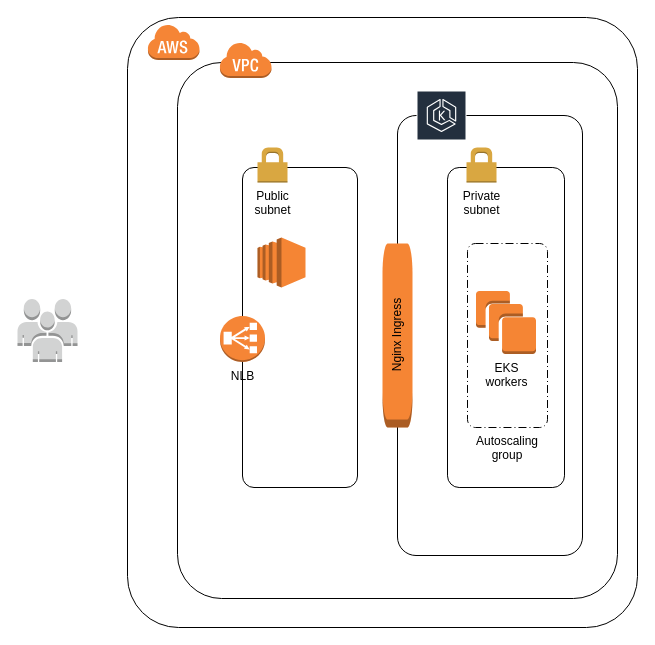
Some shapes in this 655 by 645 pixel diagram are drawn without their labels. The shapes that lost their labels are listed below. From the top down, each one's box as (x1, y1, x2, y2) in pixels, then its label:
(416, 90, 466, 140): Amazon EKS
(256, 236, 306, 288): Bastion
(16, 298, 78, 362): Internet
